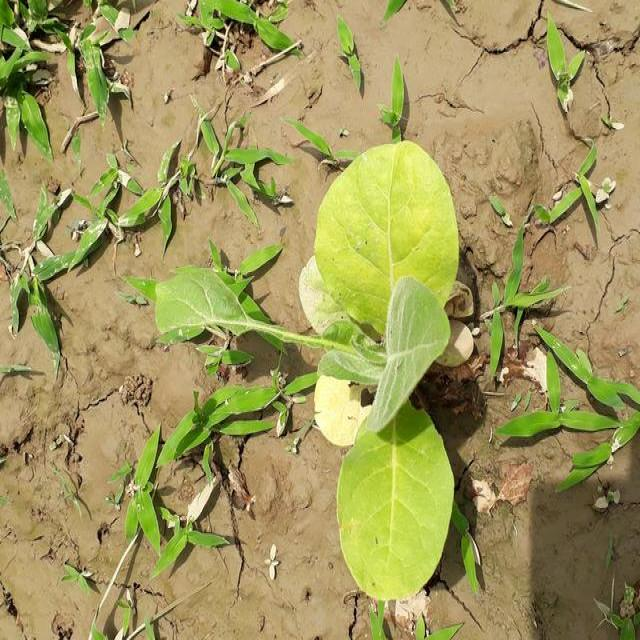crop: (180, 178, 468, 578)
